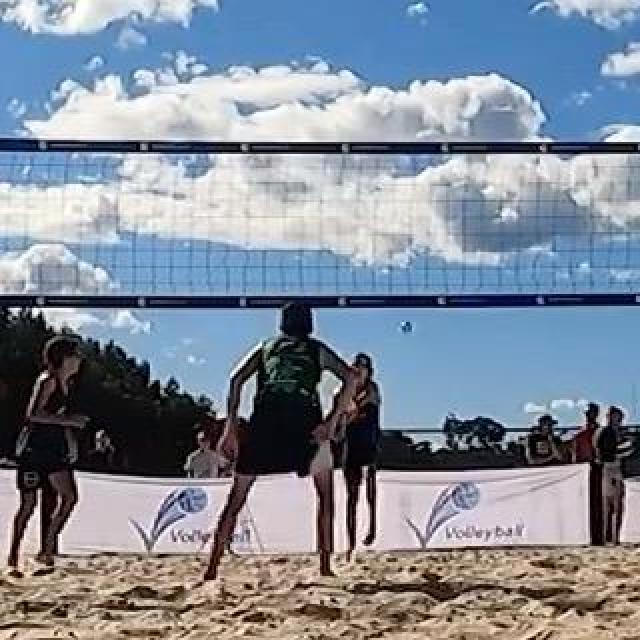volleyball: (333, 381, 367, 415)
